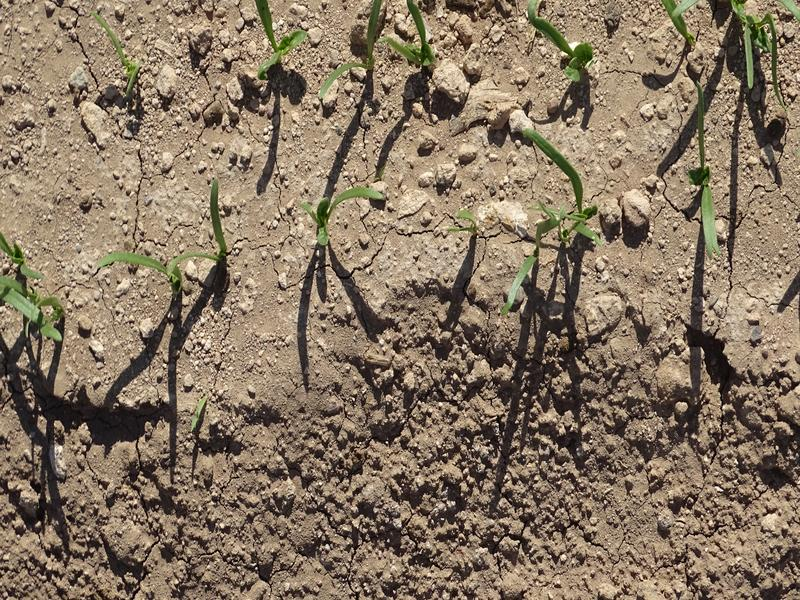Espinaca: (657, 1, 799, 111), (504, 131, 593, 297), (111, 184, 237, 280), (315, 3, 382, 104), (1, 239, 61, 343), (531, 2, 593, 90), (300, 187, 382, 245), (252, 1, 304, 80), (96, 15, 144, 92), (392, 5, 435, 67), (696, 175, 727, 258)
